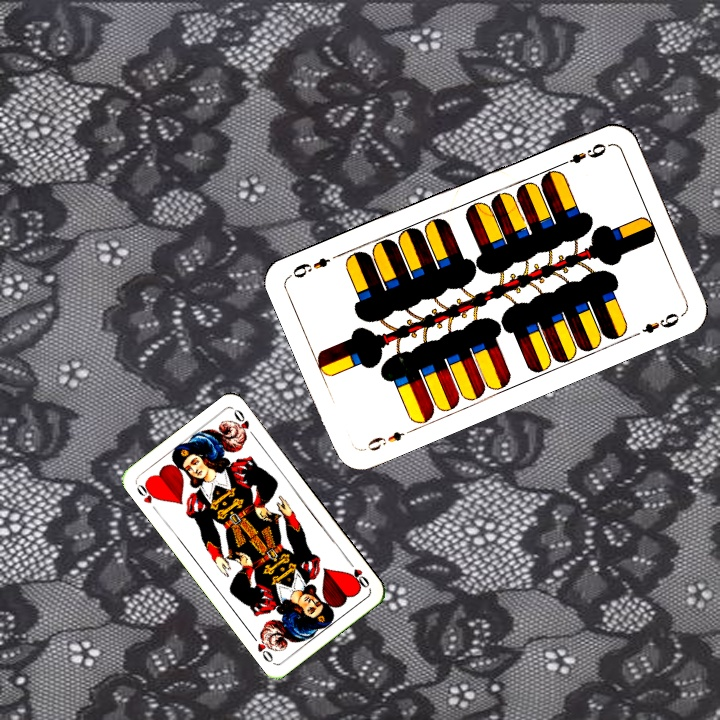E9: (360, 424, 417, 454), (555, 139, 609, 169)
HO: (132, 478, 161, 515), (343, 556, 372, 591)
